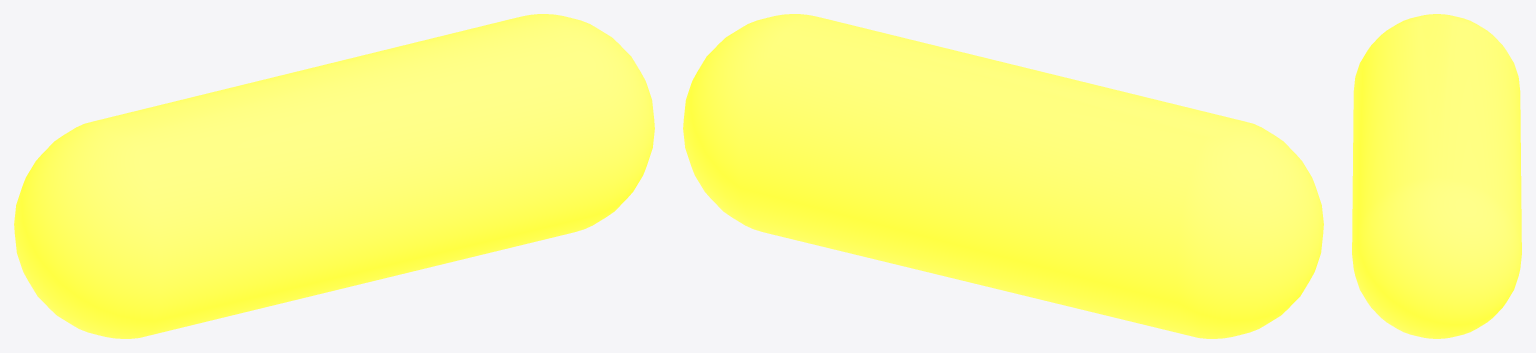
Rendered from tama_long_kiiro.fbx.
3 renders of one model, left to right at view 1: azimuth 30°, elevation 25°; view 2: azimuth 150°, elevation 25°; view 3: azimuth 270°, elevation 25°, orthographic. The views are drawn at different scales.
Visible parts, largest first — view 1: 球.002; view 2: 球.002; view 3: 球.002.
Boxes of the visible parts, x1,y1,x2,y2 form: 球.002: (14, 14, 654, 338); 球.002: (683, 14, 1323, 338); 球.002: (1352, 14, 1521, 338).
Size of the model in its own units: 473 by 150 by 150.
